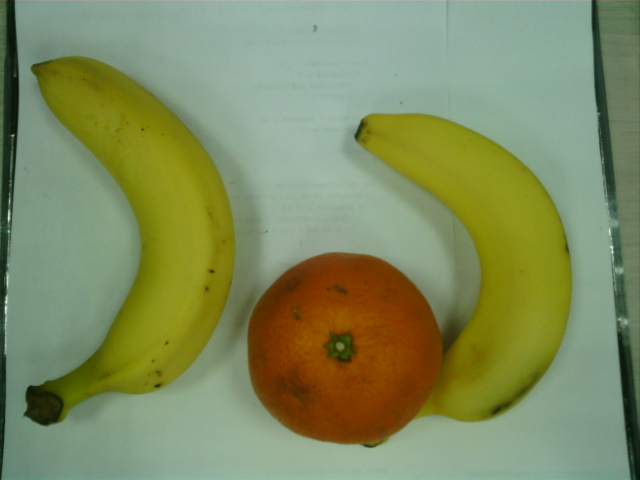normal_banana: (25, 59, 237, 419), (354, 114, 573, 422)
normal_orange: (248, 252, 442, 443)
